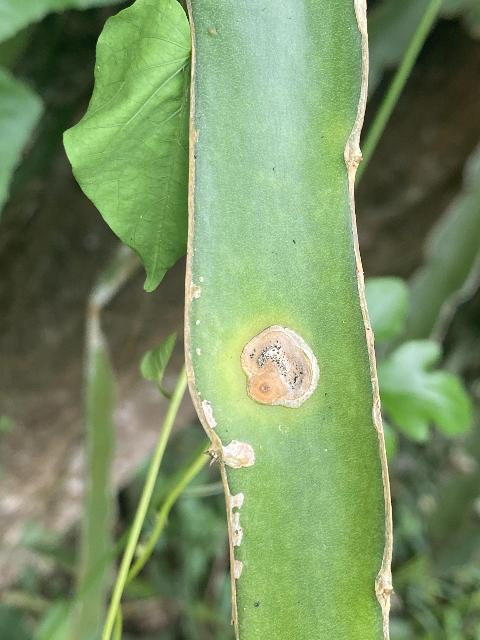stemcanker: (235, 318, 326, 414), (207, 434, 261, 474), (227, 489, 248, 512)
